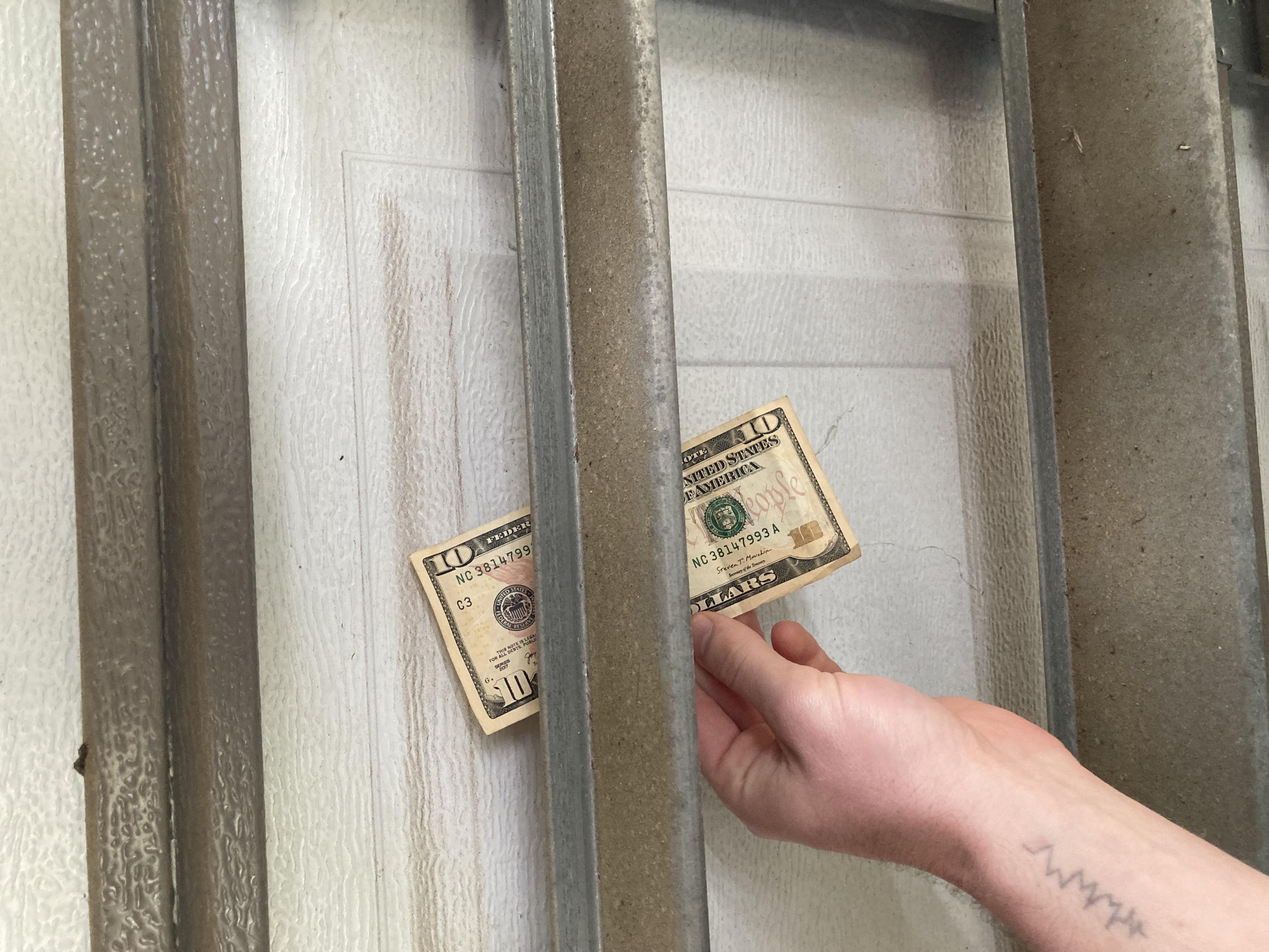ten-front: (286, 307, 741, 648)
